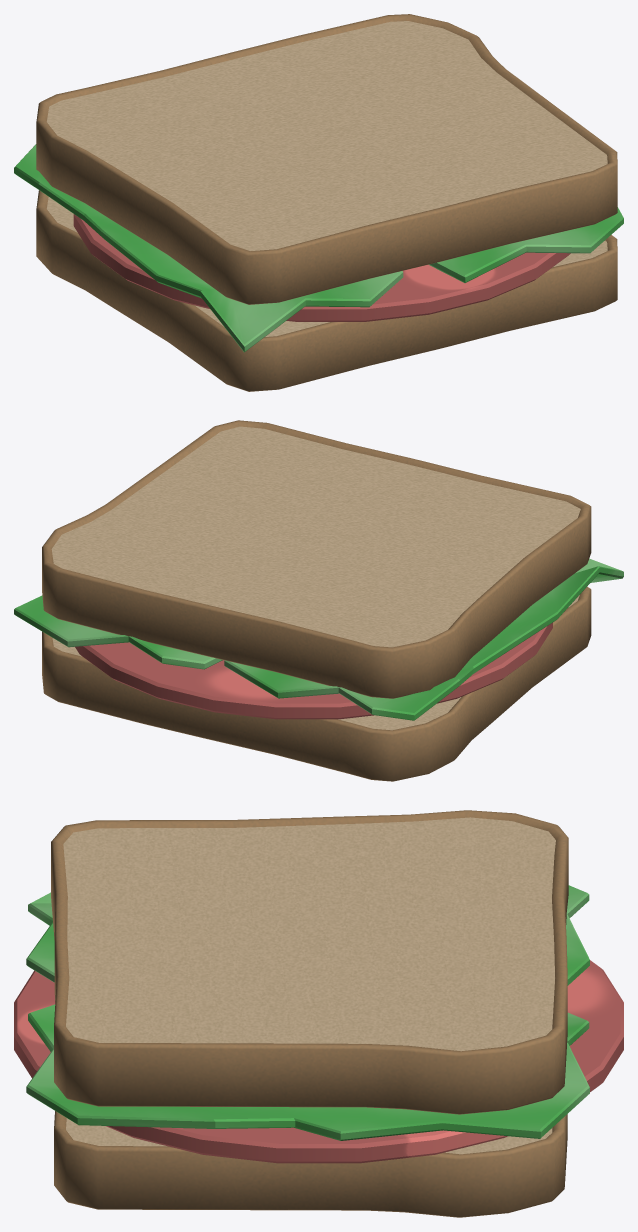
The model's file is Sand Witch.fbx.
3 renders of one model, top to bottom at view 1: azimuth 30°, elevation 25°; view 2: azimuth 150°, elevation 25°; view 3: azimuth 270°, elevation 25°, orthographic. The views are drawn at different scales.
Parts seen in each view (by area): view 1: Sandwich.001, Sandwich, Letuce, Ham; view 2: Sandwich.001, Sandwich, Letuce, Ham; view 3: Sandwich.001, Sandwich, Letuce, Ham.
Part boxes in pixels (x1=…): Sandwich.001: x1=36, y1=14, x2=617, y2=304; Sandwich: x1=36, y1=190, x2=617, y2=391; Letuce: x1=14, y1=144, x2=623, y2=352; Ham: x1=73, y1=214, x2=570, y2=321; Sandwich.001: x1=42, y1=420, x2=591, y2=698; Sandwich: x1=42, y1=587, x2=591, y2=781; Letuce: x1=14, y1=558, x2=623, y2=720; Ham: x1=75, y1=622, x2=552, y2=719; Sandwich.001: x1=51, y1=810, x2=568, y2=1114; Sandwich: x1=54, y1=1111, x2=567, y2=1217; Letuce: x1=26, y1=885, x2=589, y2=1140; Ham: x1=14, y1=960, x2=623, y2=1163.
Bounding box in the file's own units: 255 × 75.34 × 254.
3 materials, 3 textured.
